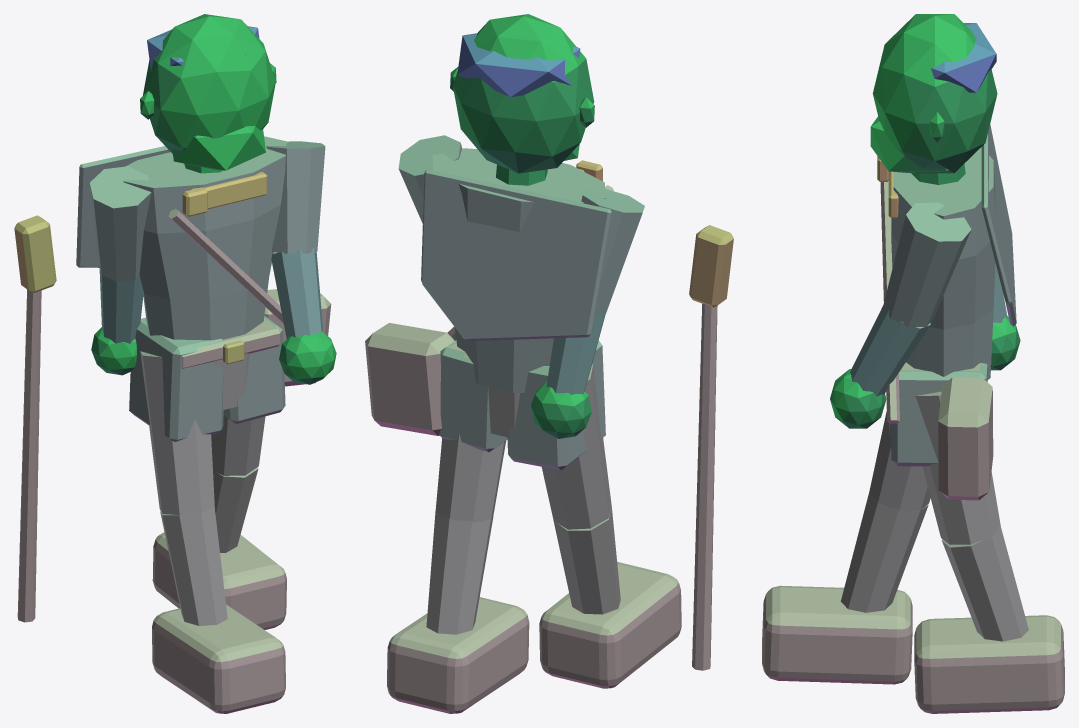
File: npc_scout_down_l_v01.glb
3 views of the same model, side by side, from view 1: azimuth 30°, elevation 25°; view 2: azimuth 150°, elevation 25°; view 3: azimuth 270°, elevation 25° (orthographic). The views are drawn at different scales.
Visible parts, largest first — view 1: GEO_npc_scout_down_l_v01; view 2: GEO_npc_scout_down_l_v01; view 3: GEO_npc_scout_down_l_v01.
Boxes of the visible parts, x1,y1,x2,y2 form: GEO_npc_scout_down_l_v01: (14, 14, 336, 713); GEO_npc_scout_down_l_v01: (365, 14, 733, 713); GEO_npc_scout_down_l_v01: (762, 14, 1064, 713).
Bounding box in the file's own units: 1.1 × 2.06 × 0.8399.
